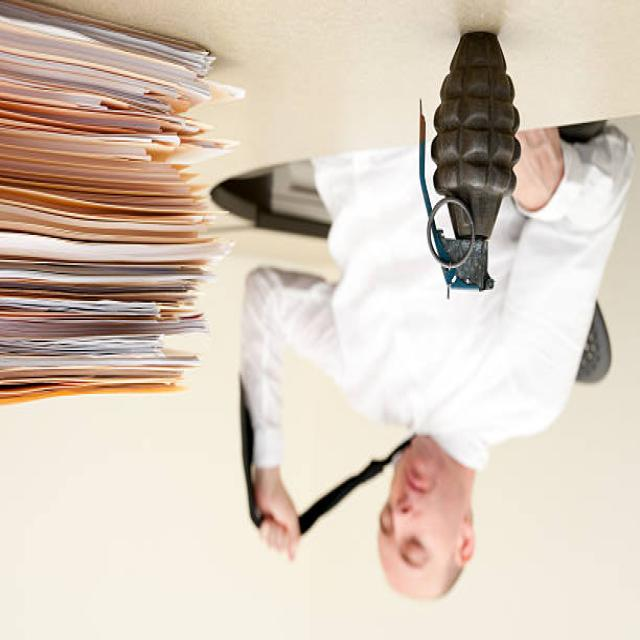grenade: (408, 31, 523, 299)
